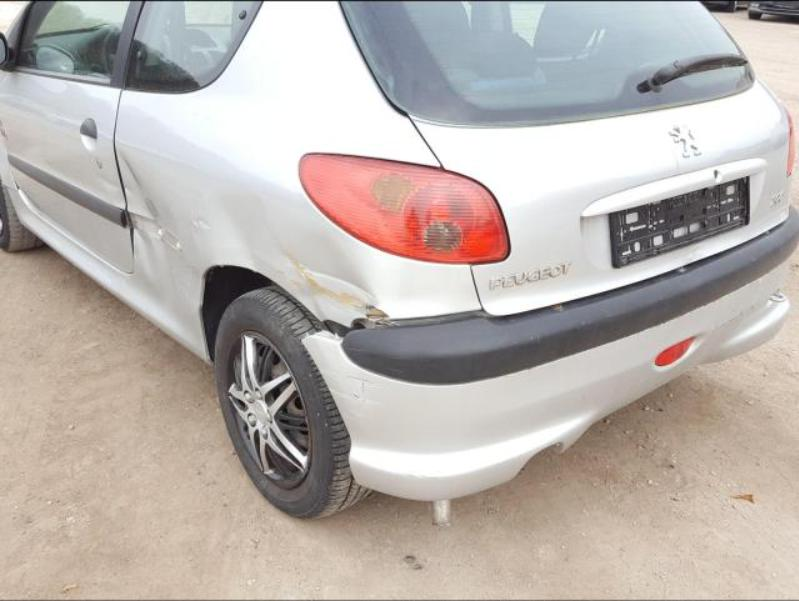Back-bumper: (302, 205, 799, 503)
Back-wheel: (213, 284, 370, 520)
Back-window: (125, 0, 263, 93)
Back-windshield: (339, 0, 752, 127)
Fender: (1, 131, 18, 189)
Front-door: (0, 0, 135, 273)
Front-wheel: (0, 185, 47, 252)
Front-window: (17, 0, 129, 85)
Mirror: (0, 29, 18, 70)
Quarter-panel: (115, 73, 483, 367)
Rocker-panel: (5, 188, 134, 310)
Tail-light: (298, 154, 507, 264), (782, 108, 798, 179)
Trunk: (412, 70, 793, 316)
